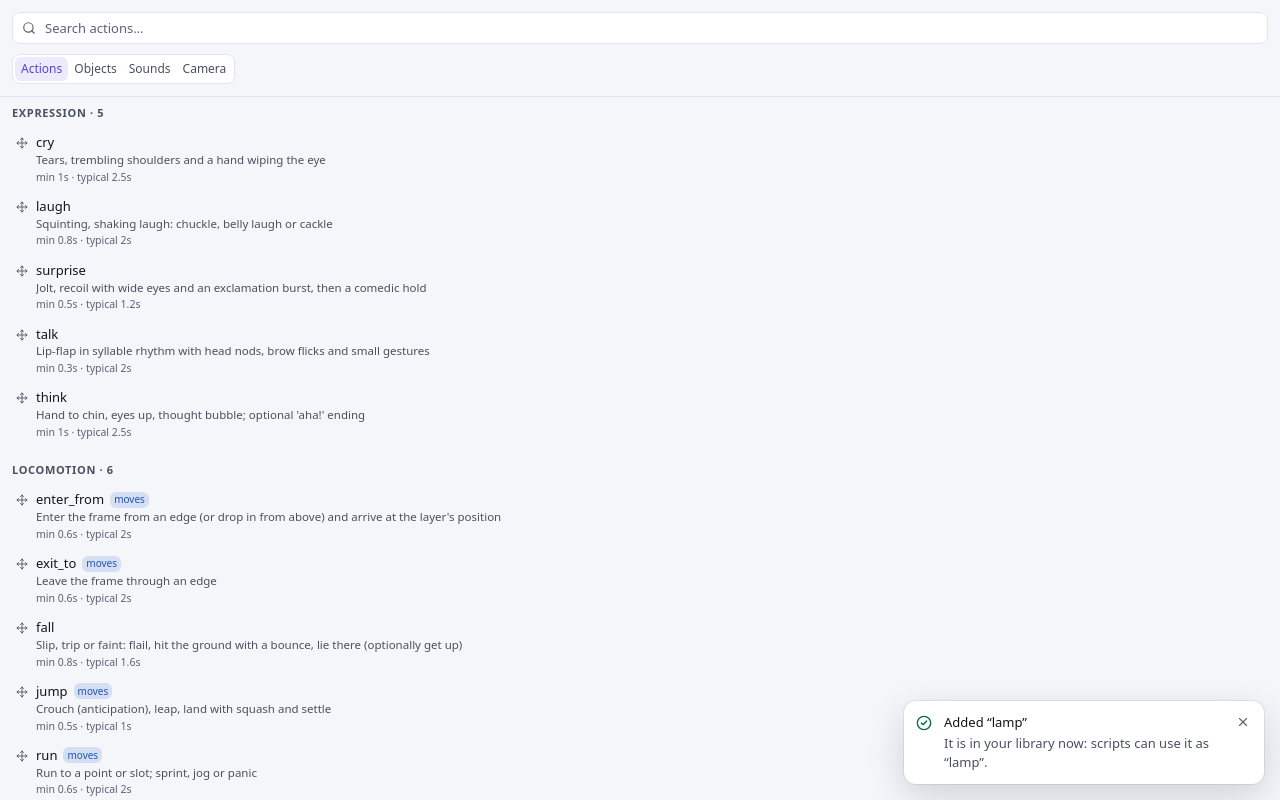
Test: the Objects section in the studio › says so when the library has no objects yet, with a way to add the first
The width and height of the screenshot is (1280, 800).
What coordinates should you click on to do the following:
click the radio button labelled "Objects"
I would click on:
 (96, 69)
Its box is [68, 57, 123, 81].
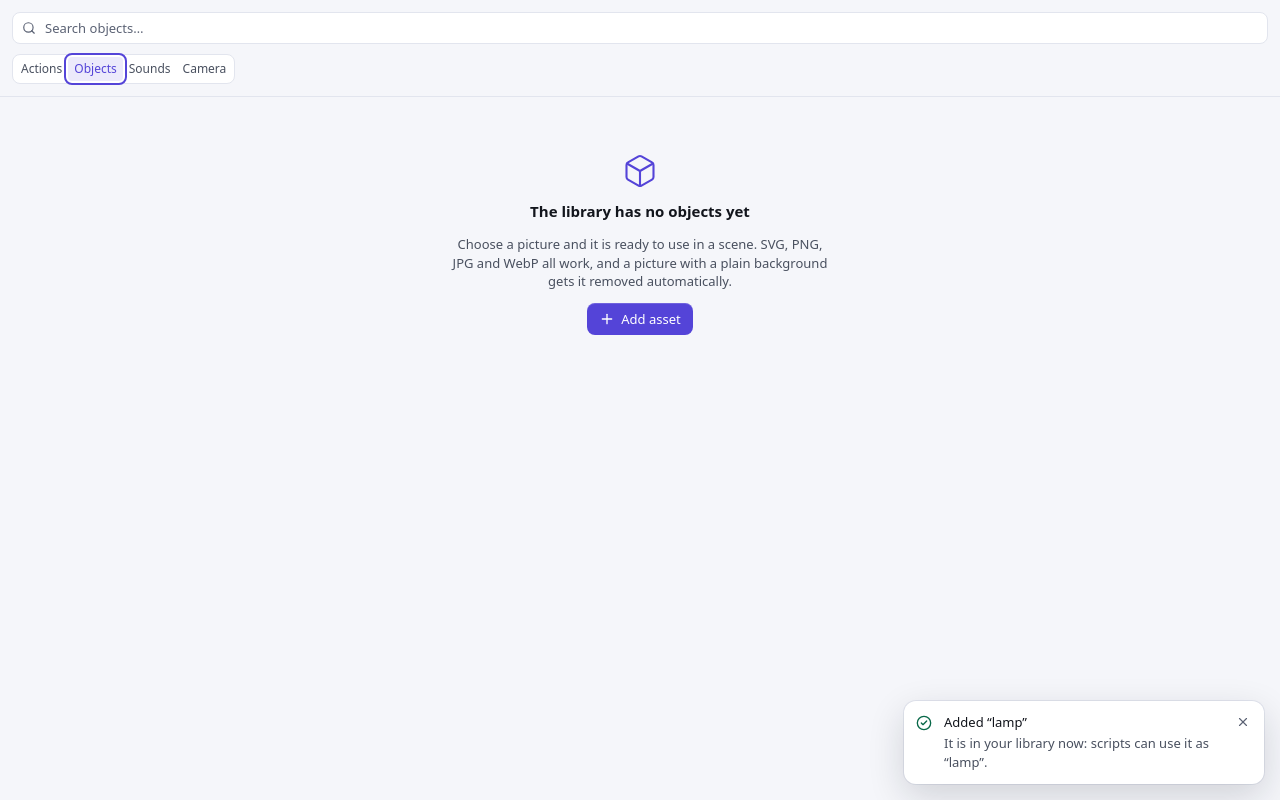
Now the text "The library has no objects yet" is shown, box [530, 201, 750, 223]
What coordinates should you click on to do the following:
click the button "Add asset"
I would click on:
 (640, 319)
Its box is [587, 303, 693, 335].
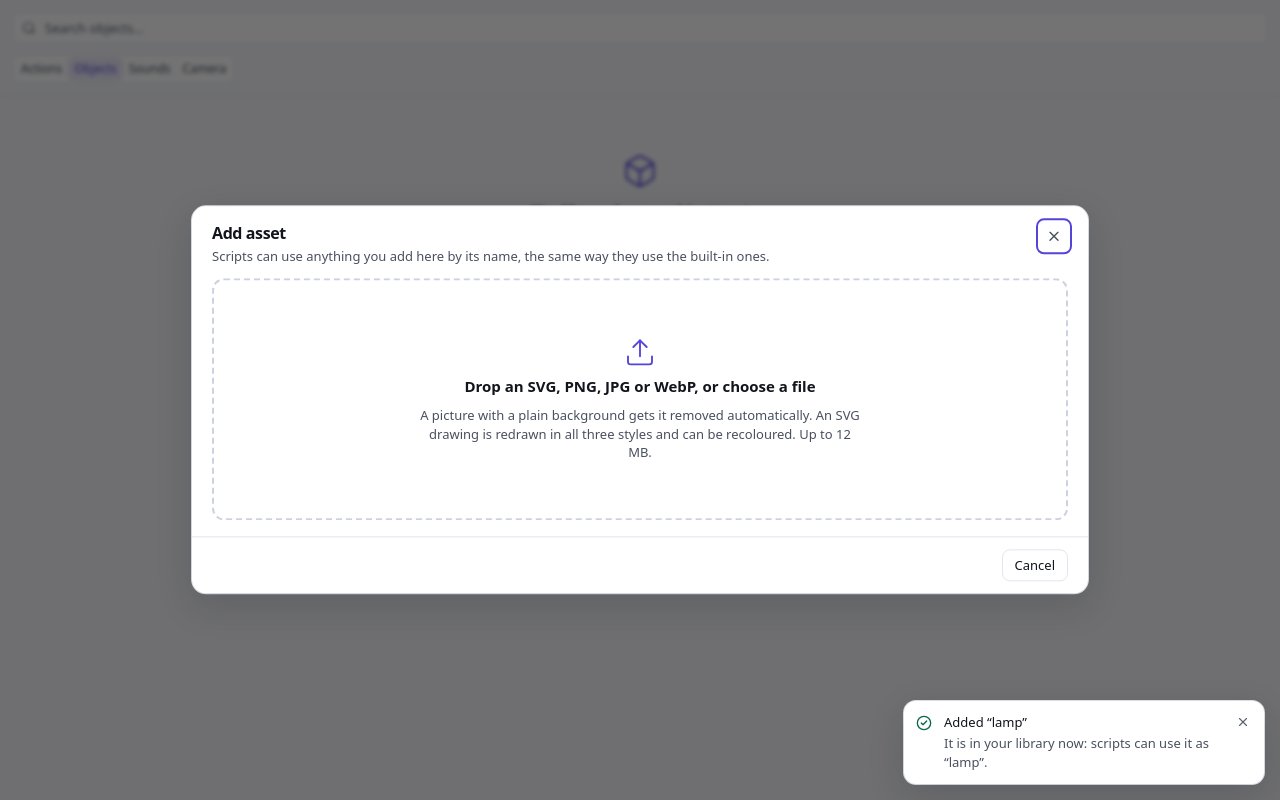
Now the dialog "Add asset" is shown, box [192, 206, 1088, 594]
